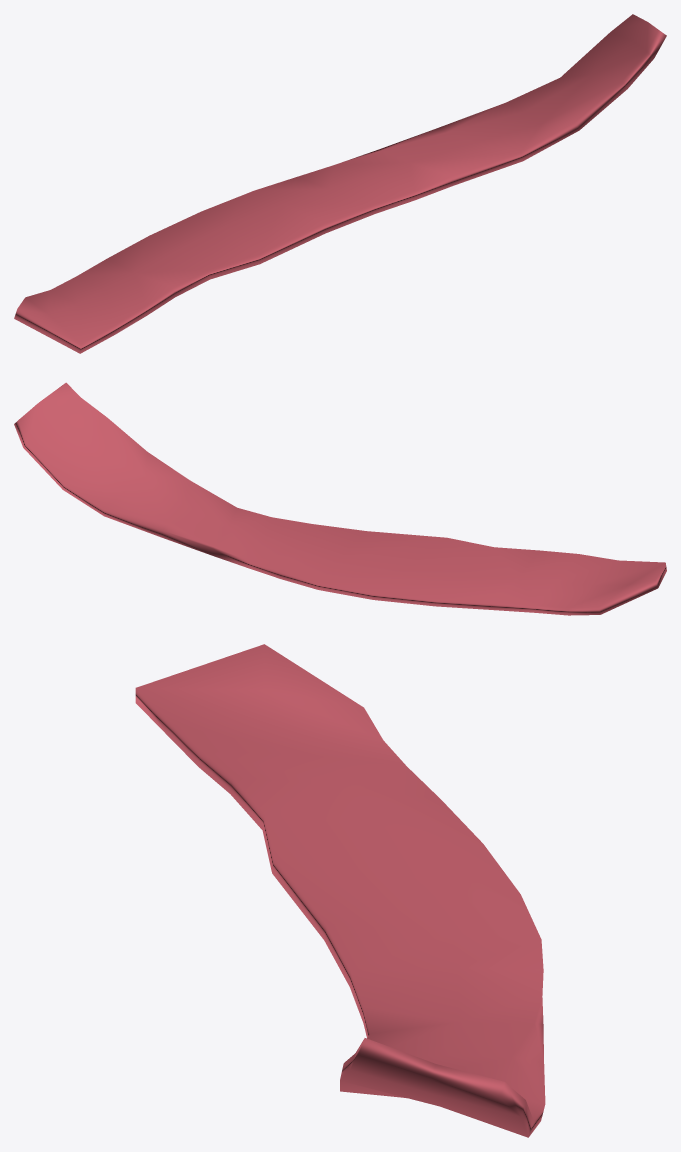
3 views of the same model, one above another, from view 1: azimuth 30°, elevation 25°; view 2: azimuth 150°, elevation 25°; view 3: azimuth 270°, elevation 25° (orthographic). The views are drawn at different scales.
Visible parts, largest first — view 1: 左侧掌浅横韧带; view 2: 左侧掌浅横韧带; view 3: 左侧掌浅横韧带.
Boxes of the visible parts, <box> form: 左侧掌浅横韧带: <box>14,14,666,353</box>; 左侧掌浅横韧带: <box>14,382,666,615</box>; 左侧掌浅横韧带: <box>135,644,545,1137</box>.
Bounding box in the file's own units: 0.1103 × 0.0192 × 0.0334.
